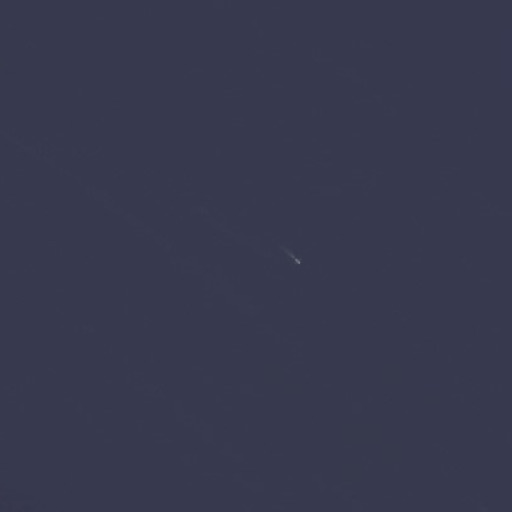ship: (287, 248, 303, 268)
